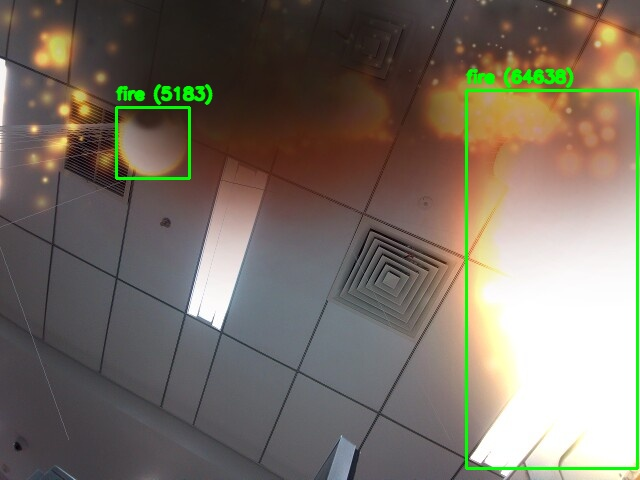fire: (466, 90, 637, 468), (116, 107, 189, 178)
